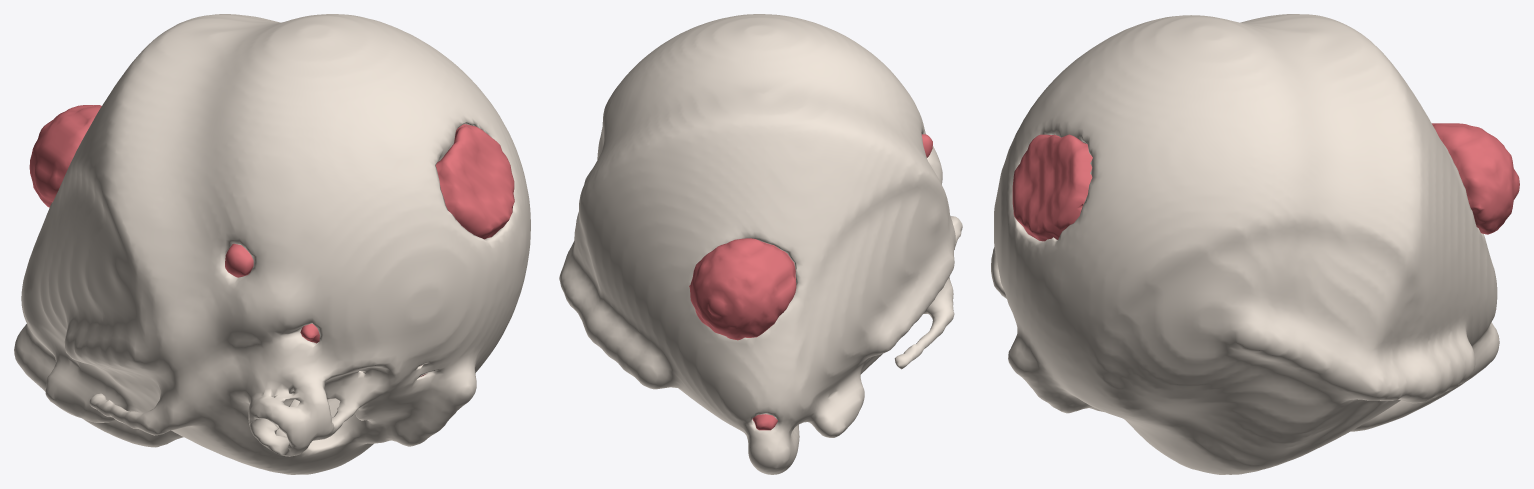
The model's file is case_07.glb.
3 renders of one model, left to right at view 1: azimuth 30°, elevation 25°; view 2: azimuth 150°, elevation 25°; view 3: azimuth 270°, elevation 25°, orthographic. The views are drawn at different scales.
Visible parts, largest first — view 1: heart, pool; view 2: heart, pool; view 3: heart, pool.
Part boxes in pixels (x1,y1,x2,y2): heart: (14,14,530,474); pool: (29,105,514,376); heart: (559,14,962,474); pool: (689,134,932,430); heart: (991,14,1499,474); pool: (1012,123,1519,309).
Bounding box in the file's own units: 126 × 133 × 144.
